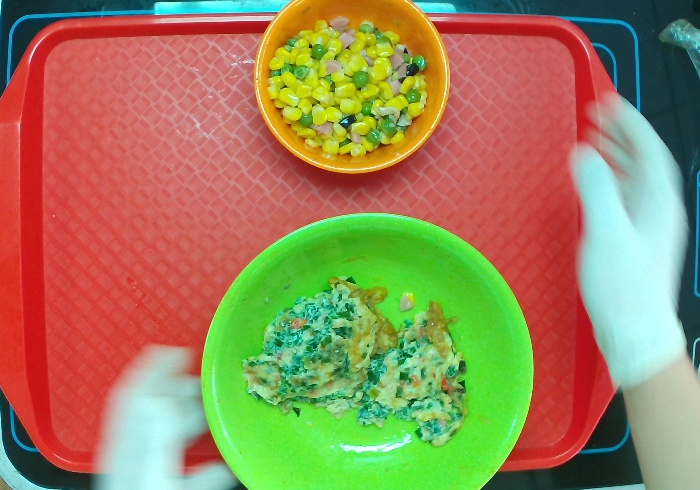YKMZ-Ju_Se_Yuan_Wan: (252, 1, 452, 177)
YKMZ-Lv_Se_Tang_Wan: (200, 212, 536, 490)
